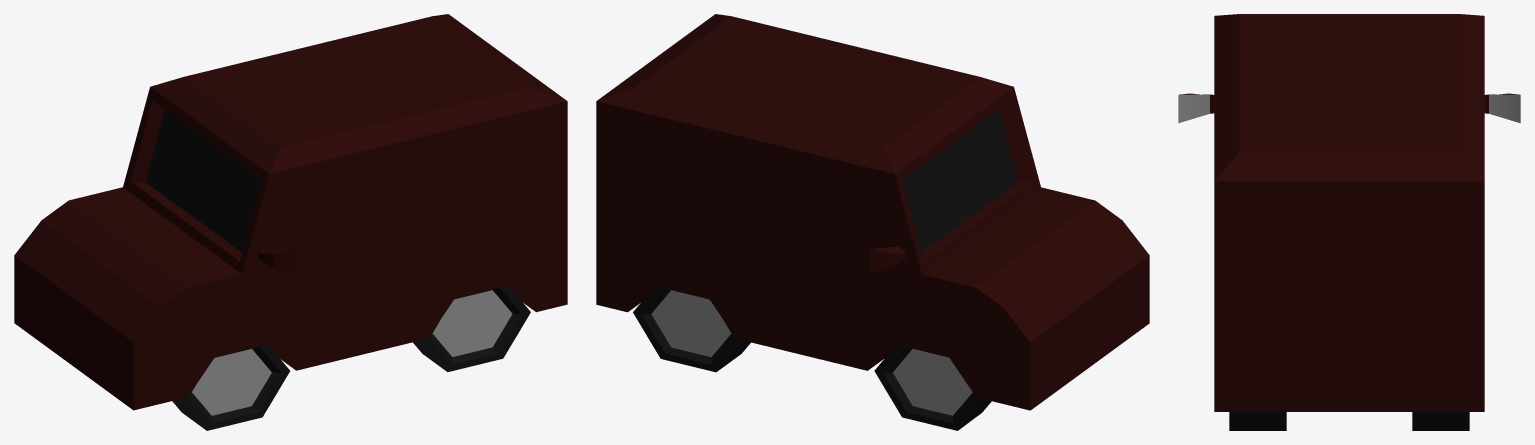
Rendered from Car.FBX.
3 views of the same model, side by side, from view 1: azimuth 30°, elevation 25°; view 2: azimuth 150°, elevation 25°; view 3: azimuth 270°, elevation 25° (orthographic). The views are drawn at different scales.
Visible parts, largest first — view 1: car, wheel3, wheel1, mirror1; view 2: car, wheel4, wheel2, mirror2; view 3: car, wheel3, wheel4, mirror1, mirror2.
Boxes of the visible parts, <box> form: car: <box>14,14,567,410</box>; wheel3: <box>413,286,530,371</box>; wheel1: <box>172,344,289,430</box>; mirror1: <box>258,246,293,273</box>; car: <box>596,14,1149,410</box>; wheel4: <box>633,286,750,372</box>; wheel2: <box>874,344,991,430</box>; mirror2: <box>870,246,905,273</box>; car: <box>1214,14,1484,411</box>; wheel3: <box>1229,412,1286,430</box>; wheel4: <box>1412,412,1469,430</box>; mirror1: <box>1178,93,1214,123</box>; mirror2: <box>1484,93,1520,123</box>.
Size of the model in its own units: 534 by 307 by 322.
